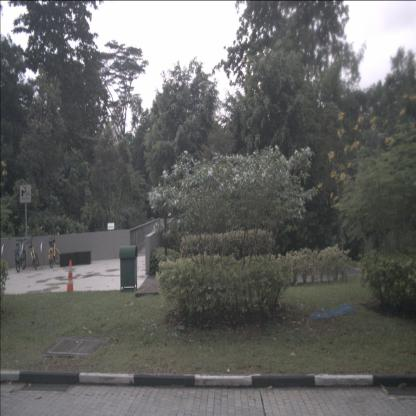movable_object-trafficcone: (66, 260, 75, 294)
